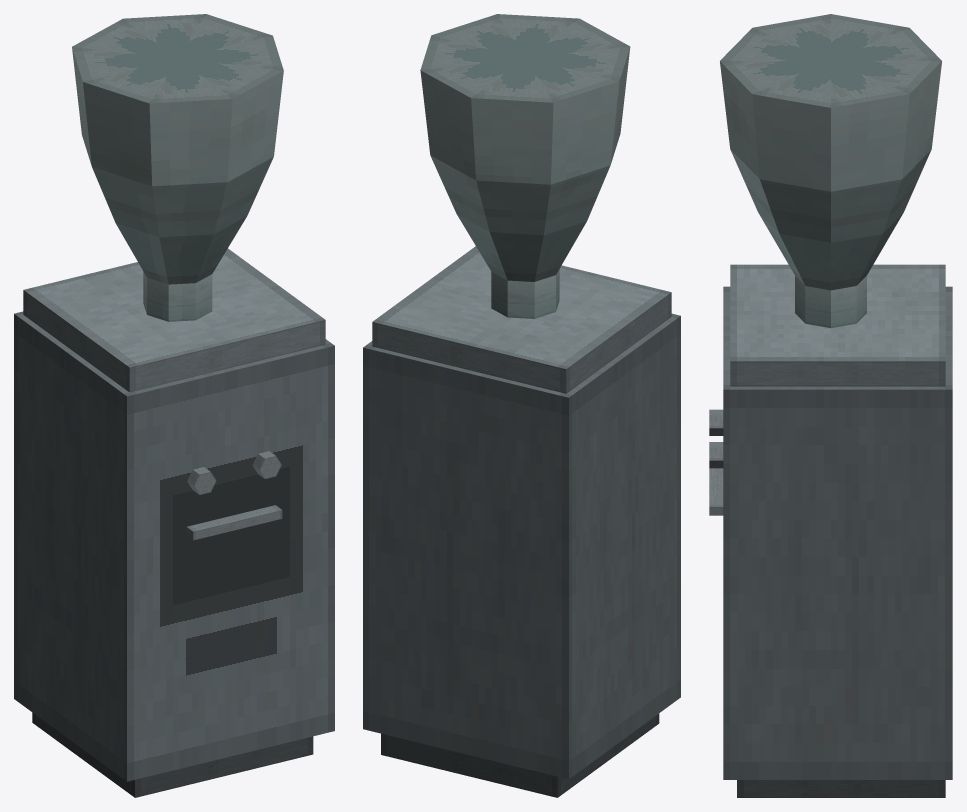
Rendered from water_cooler.glb.
The picture shows the model from 3 angles, left to right: view 1: azimuth 30°, elevation 25°; view 2: azimuth 150°, elevation 25°; view 3: azimuth 270°, elevation 25°; orthographic projection. The views are drawn at different scales.
Parts seen in each view (by area): view 1: core_water_cooler; view 2: core_water_cooler; view 3: core_water_cooler.
Part boxes in pixels (<box>): core_water_cooler: <box>14,14,334,797</box>; core_water_cooler: <box>363,14,680,797</box>; core_water_cooler: <box>709,14,952,797</box>.
Size of the model in its own units: 0.35 by 1.1 by 0.35.
Materials: 1 (1 with a texture image).
